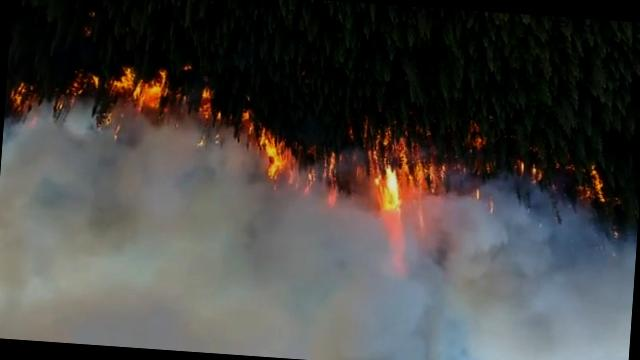fire: (342, 116, 443, 264), (463, 136, 630, 211), (222, 108, 341, 204), (70, 70, 218, 122), (4, 81, 40, 115)
smoke: (0, 114, 436, 360), (427, 172, 640, 360)
